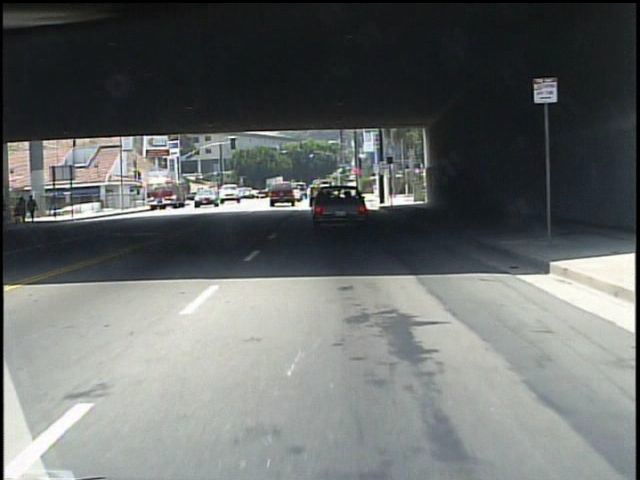person: (16, 198, 29, 226), (30, 196, 41, 226)
